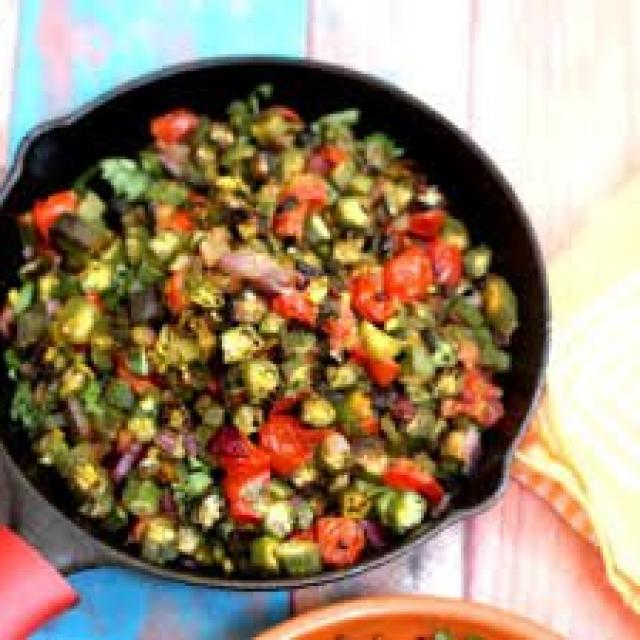Bhindi Masala: (0, 91, 521, 577)
